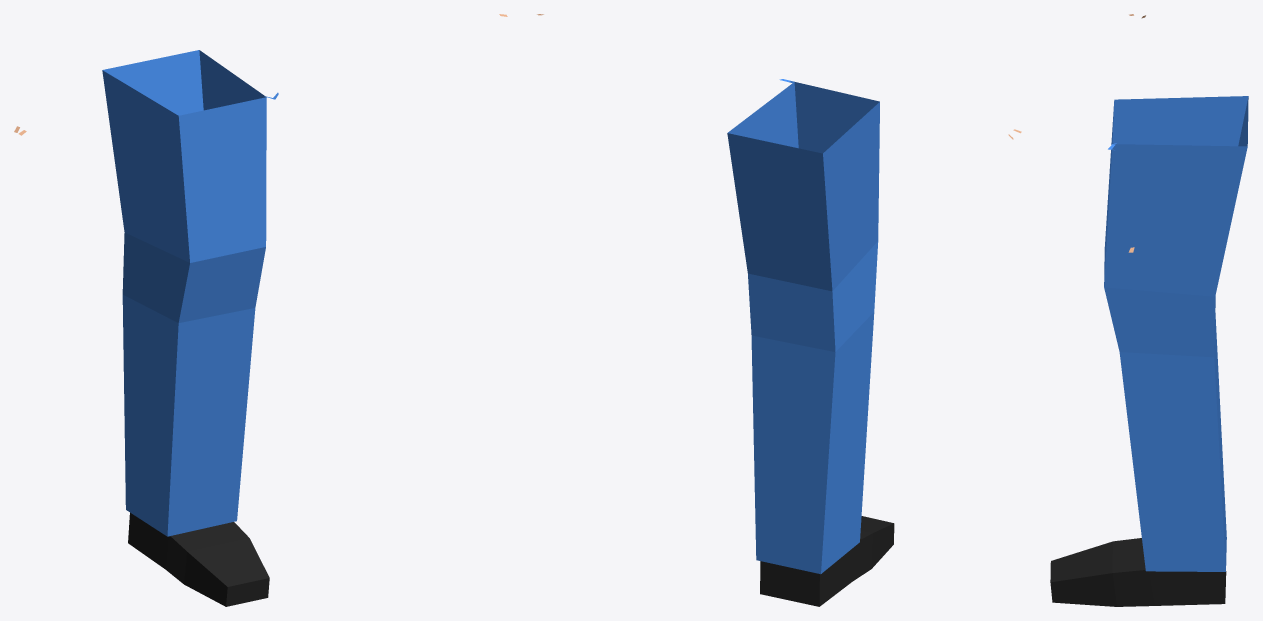
The model's file is guy_leg_izq.obj.
The picture shows the model from 3 angles, left to right: view 1: azimuth 30°, elevation 25°; view 2: azimuth 150°, elevation 25°; view 3: azimuth 270°, elevation 25°; orthographic projection.
Parts seen in each view (by area): view 1: Cube; view 2: Cube; view 3: Cube.
Part boxes in pixels (x1,y1,x2,y2): Cube: (14, 14, 507, 606); Cube: (537, 14, 1021, 606); Cube: (1050, 14, 1248, 606).
Size of the model in its own units: 1.49 by 1.42 by 0.5227.
4 materials, 3 textured.
